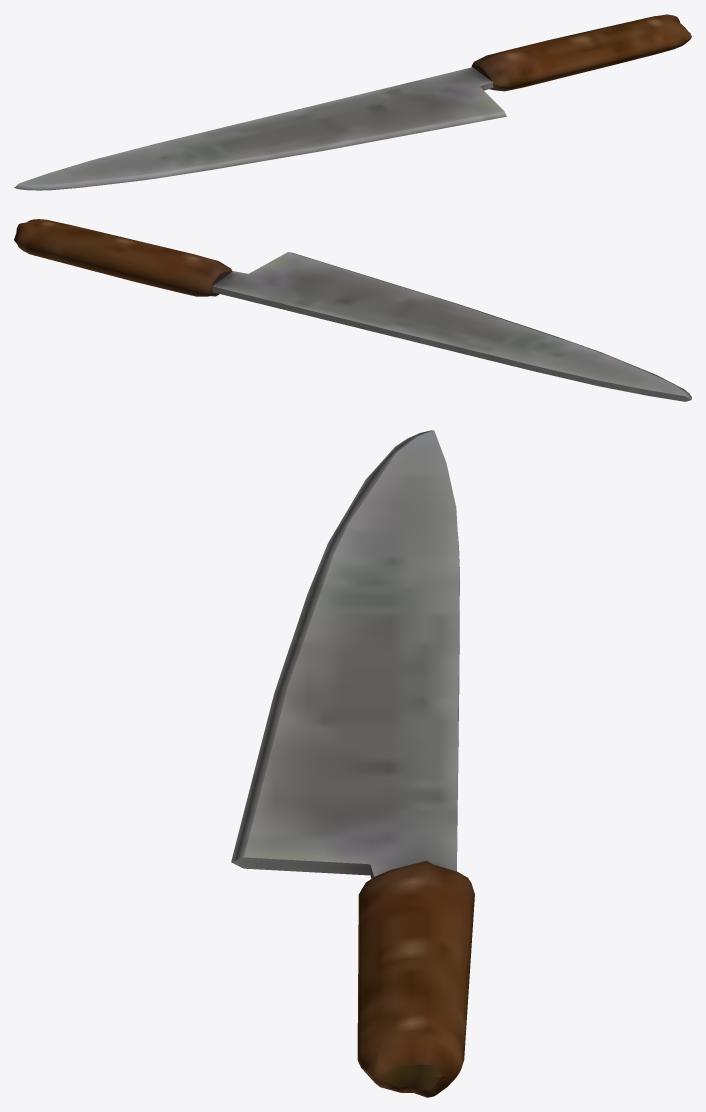
The model's file is medical_knife_b.glb.
3 views of the same model, one above another, from view 1: azimuth 30°, elevation 25°; view 2: azimuth 150°, elevation 25°; view 3: azimuth 270°, elevation 25° (orthographic). The views are drawn at different scales.
Visible parts, largest first — view 1: Medical_Knife_b; view 2: Medical_Knife_b; view 3: Medical_Knife_b.
Boxes of the visible parts, x1,y1,x2,y2 form: Medical_Knife_b: [14, 14, 691, 190]; Medical_Knife_b: [14, 219, 691, 401]; Medical_Knife_b: [231, 430, 474, 1097].
Bounding box in the file's own units: 0.3153 × 0.0142 × 0.0502.
1 material, 1 textured.
